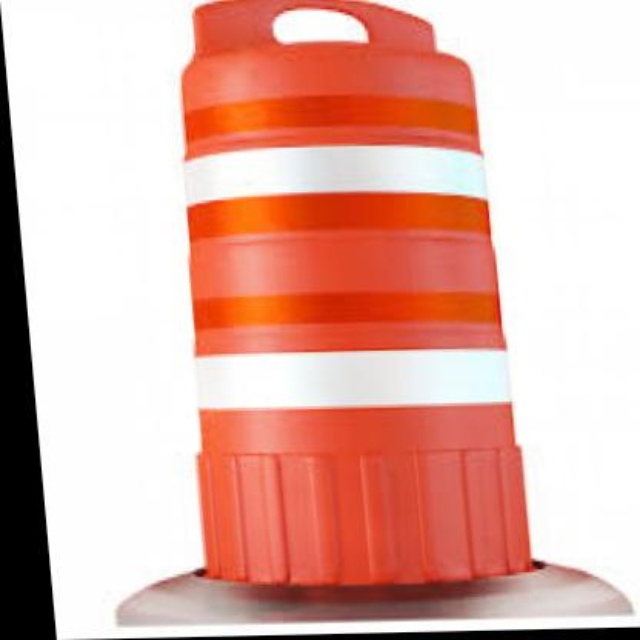obstacle: (145, 23, 540, 609)
